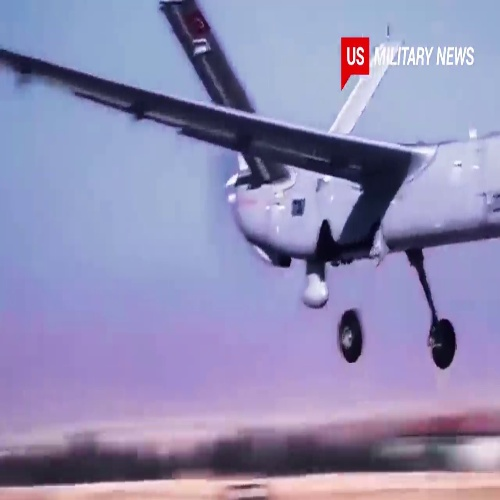uav230: (2, 3, 500, 365)
